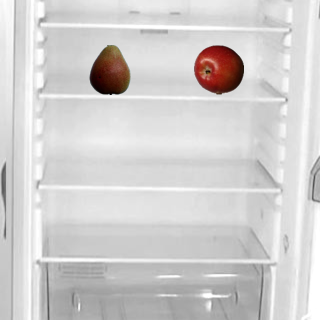Apple Braeburn: (193, 44, 243, 94)
Pear Forelle: (84, 44, 134, 94)
